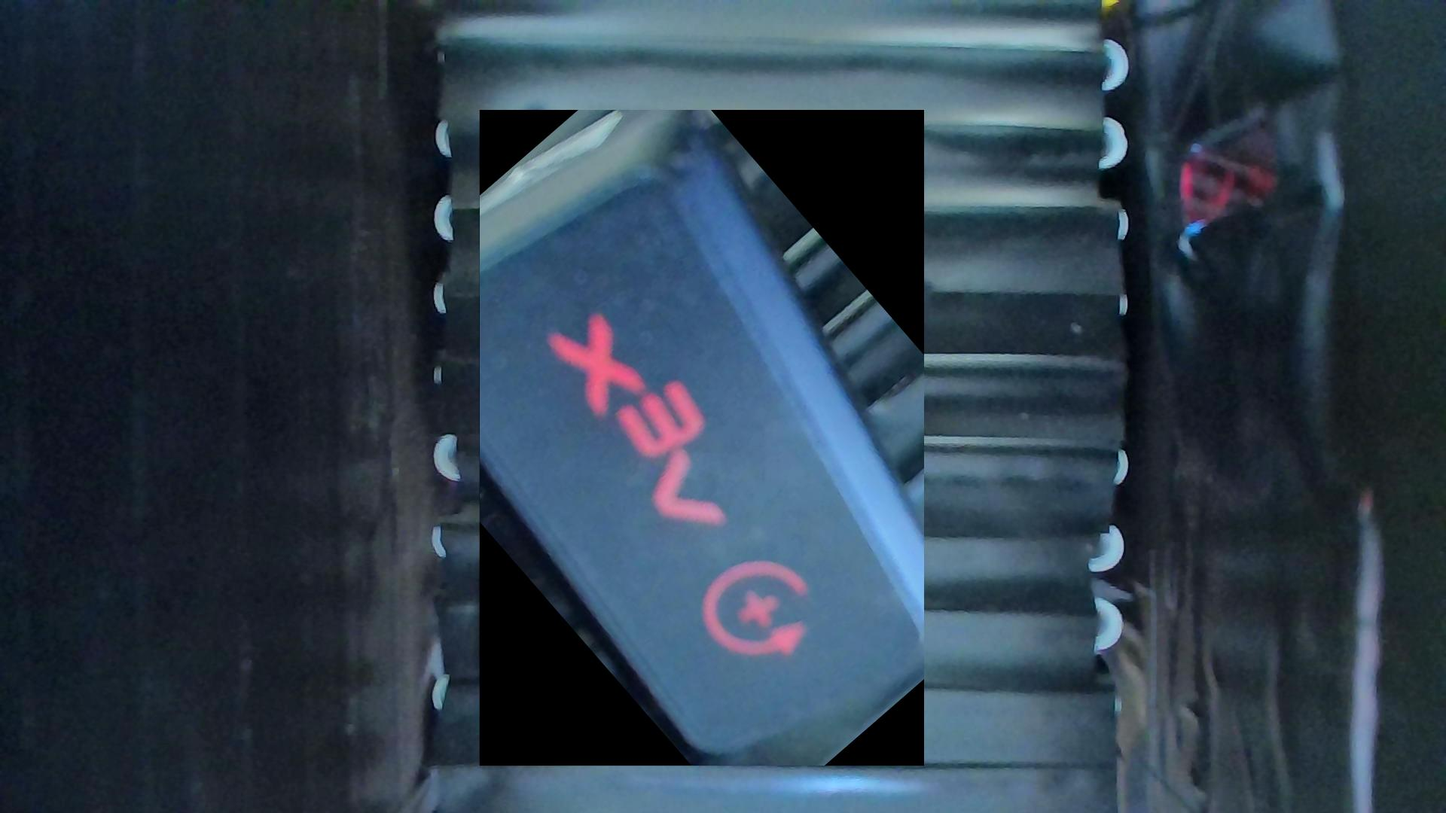motor: (478, 111, 923, 767)
